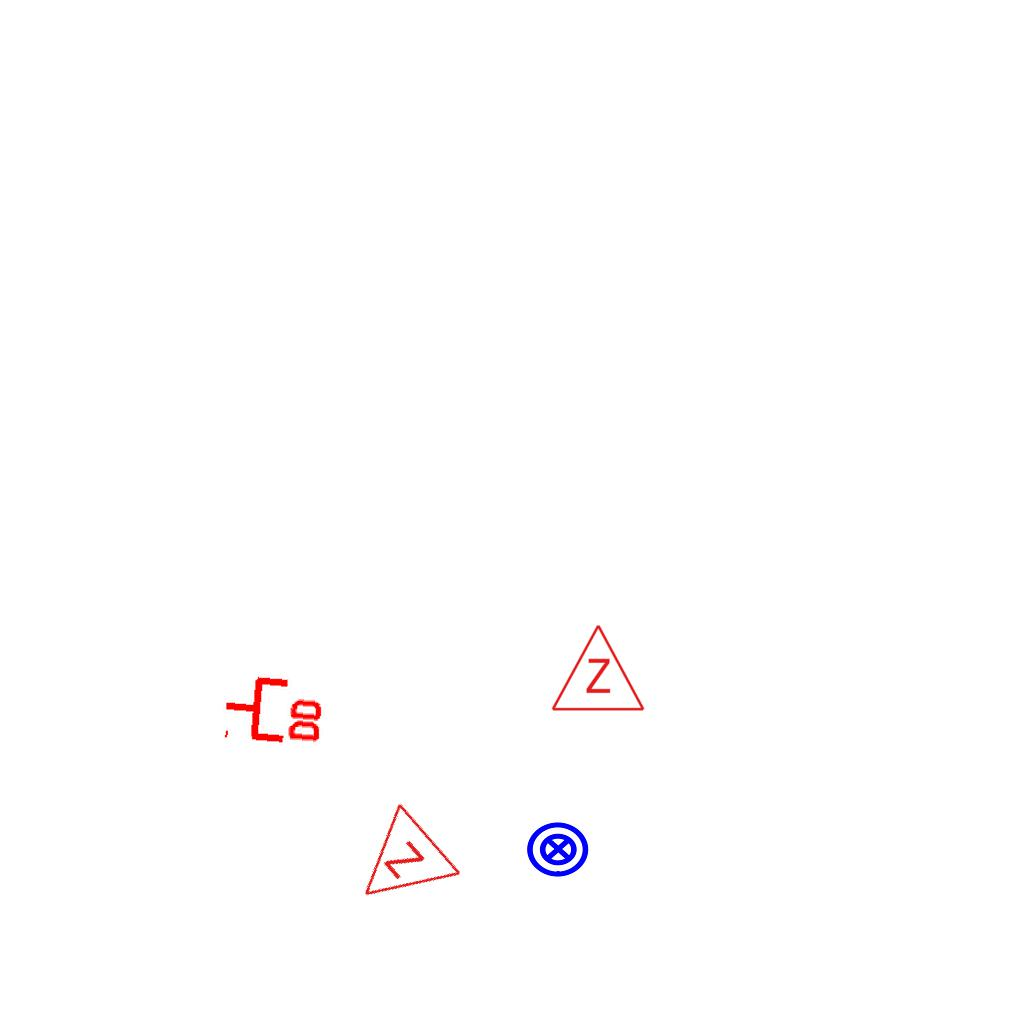Datenanschluss_zweifach: (220, 669, 329, 748)
Taster_beleuchtet: (525, 816, 591, 882)
Zimmersignalleuchte: (329, 797, 469, 937), (548, 618, 646, 718)
